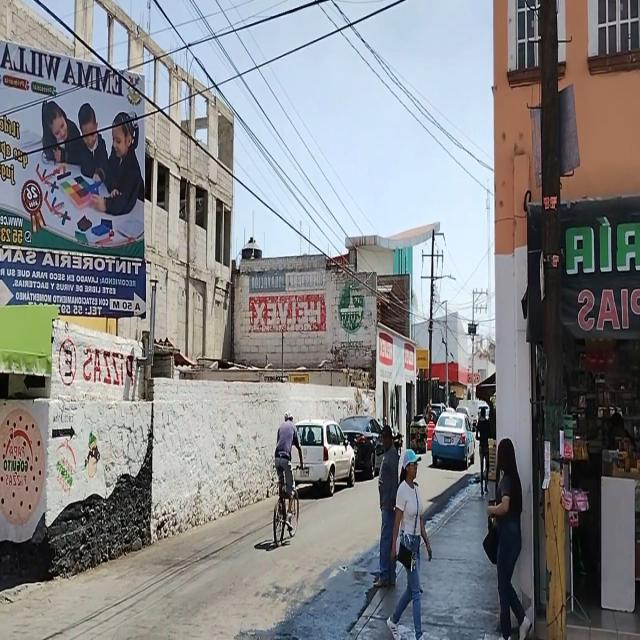adult: (486, 438, 532, 640), (388, 447, 434, 640), (372, 424, 400, 593), (273, 408, 301, 530)
